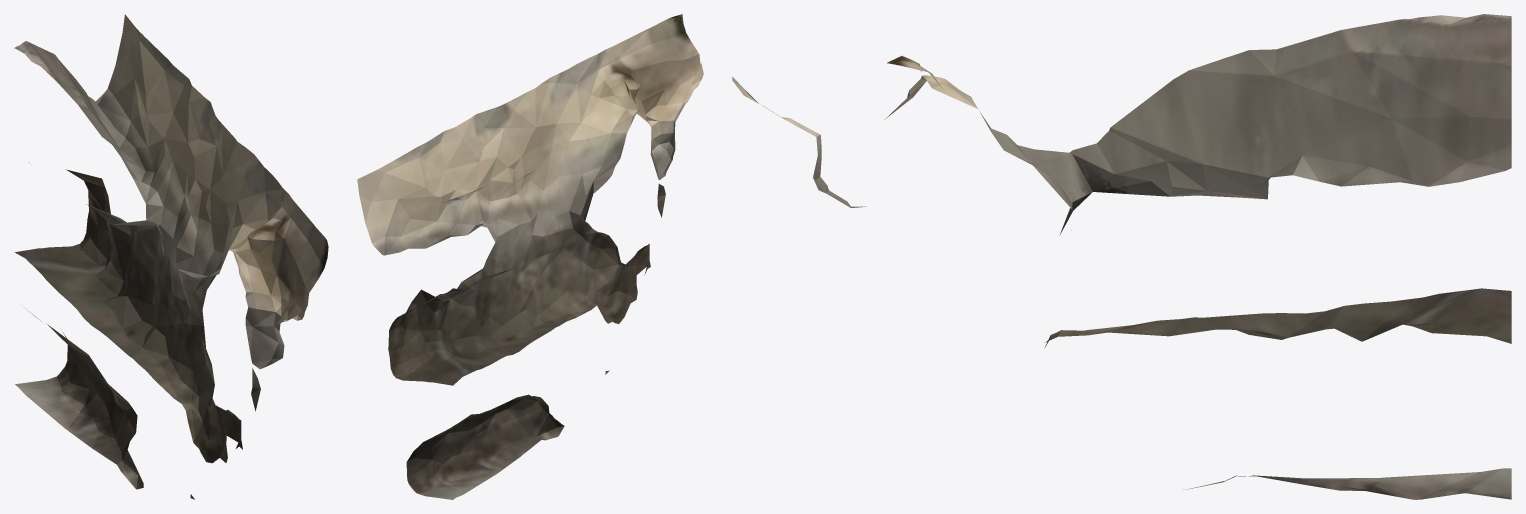
3 views of the same model, side by side, from view 1: azimuth 30°, elevation 25°; view 2: azimuth 150°, elevation 25°; view 3: azimuth 270°, elevation 25° (orthographic). The views are drawn at different scales.
Bounding box in the file's own units: 0.3691 × 1.15 × 1.67.
2 materials, 2 textured.
